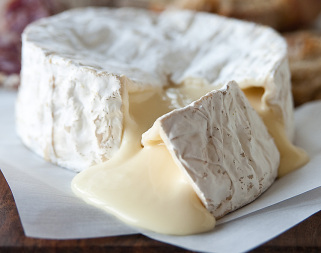camembert: (15, 5, 310, 235)
